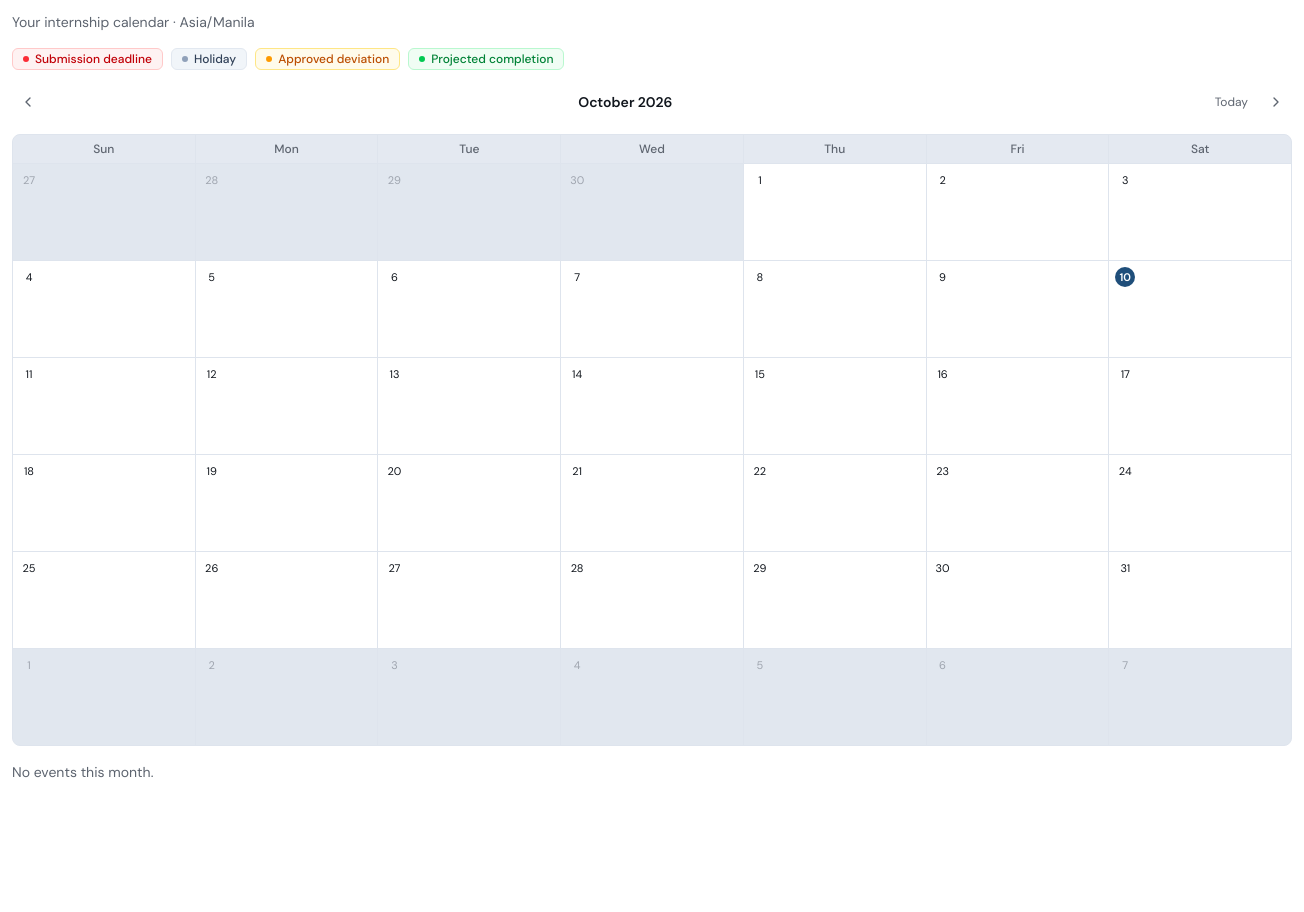
Test: filters the mobile agenda by month, navigates across years, and returns to today
The image size is (1304, 912).
Click the button named "Next month" at (1276, 102), box x1=1260 y1=86 x2=1292 y2=118
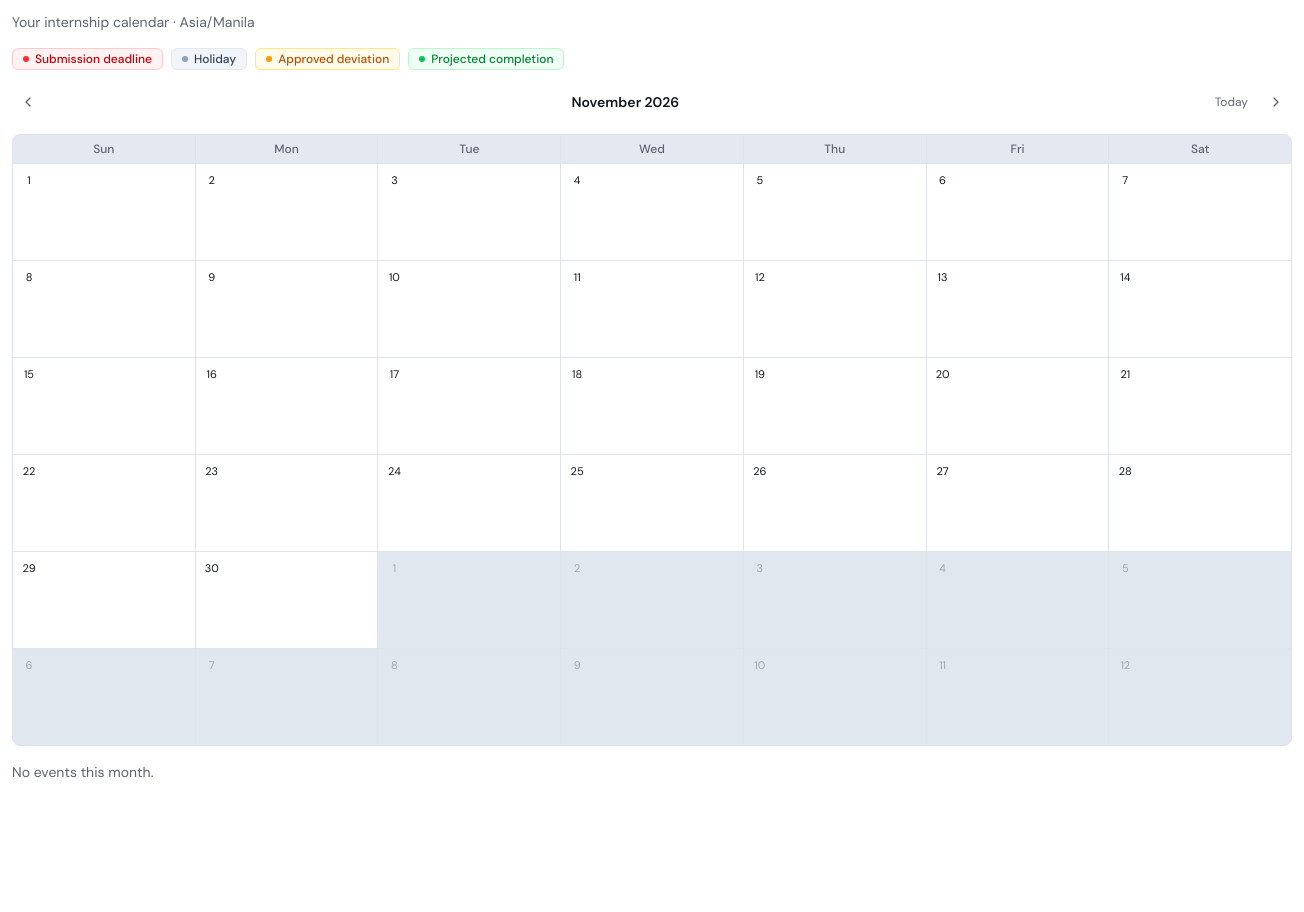
Click the button named "Next month" at (1276, 102), box x1=1260 y1=86 x2=1292 y2=118
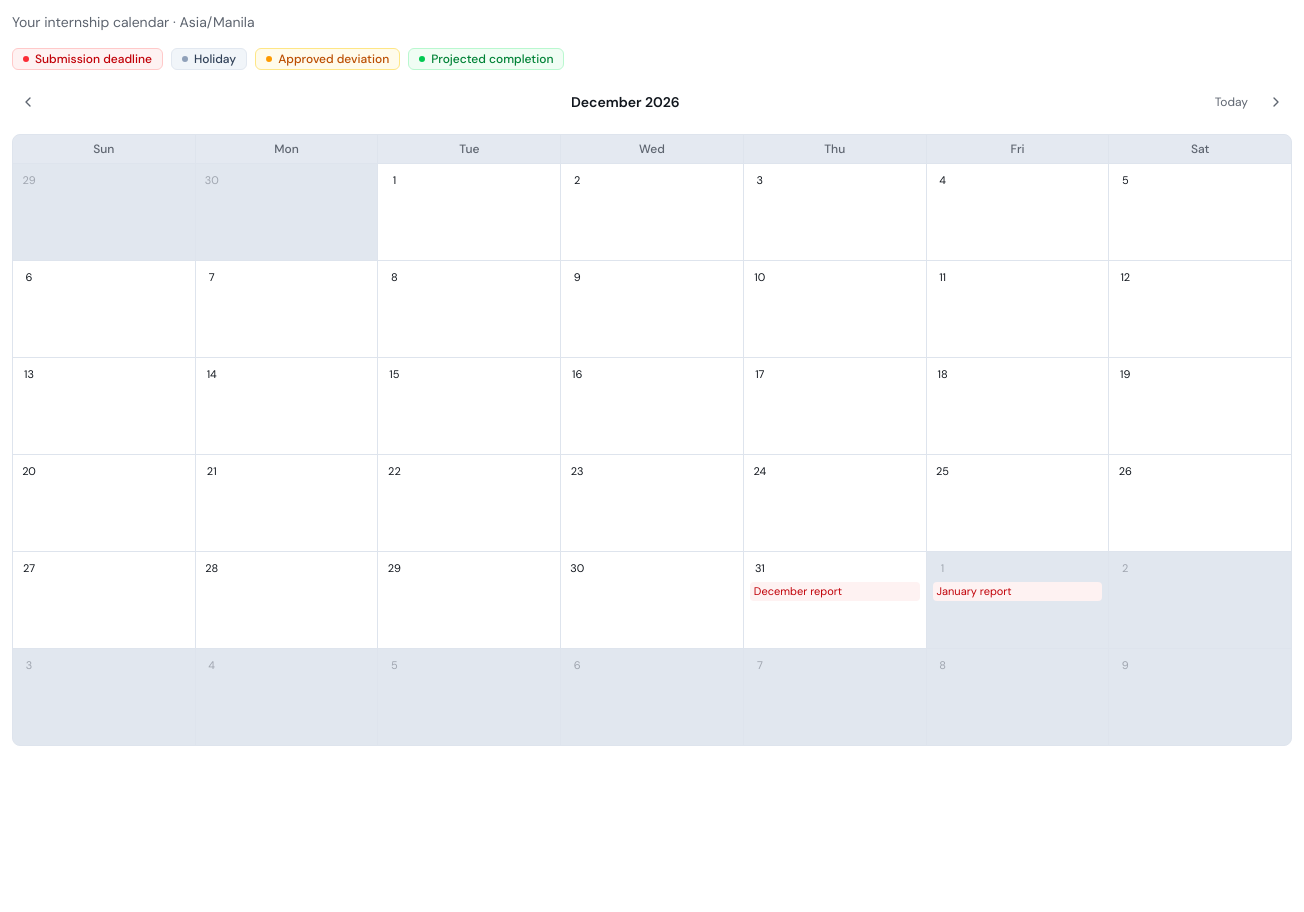
Click the button named "Next month" at (1276, 102), box x1=1260 y1=86 x2=1292 y2=118
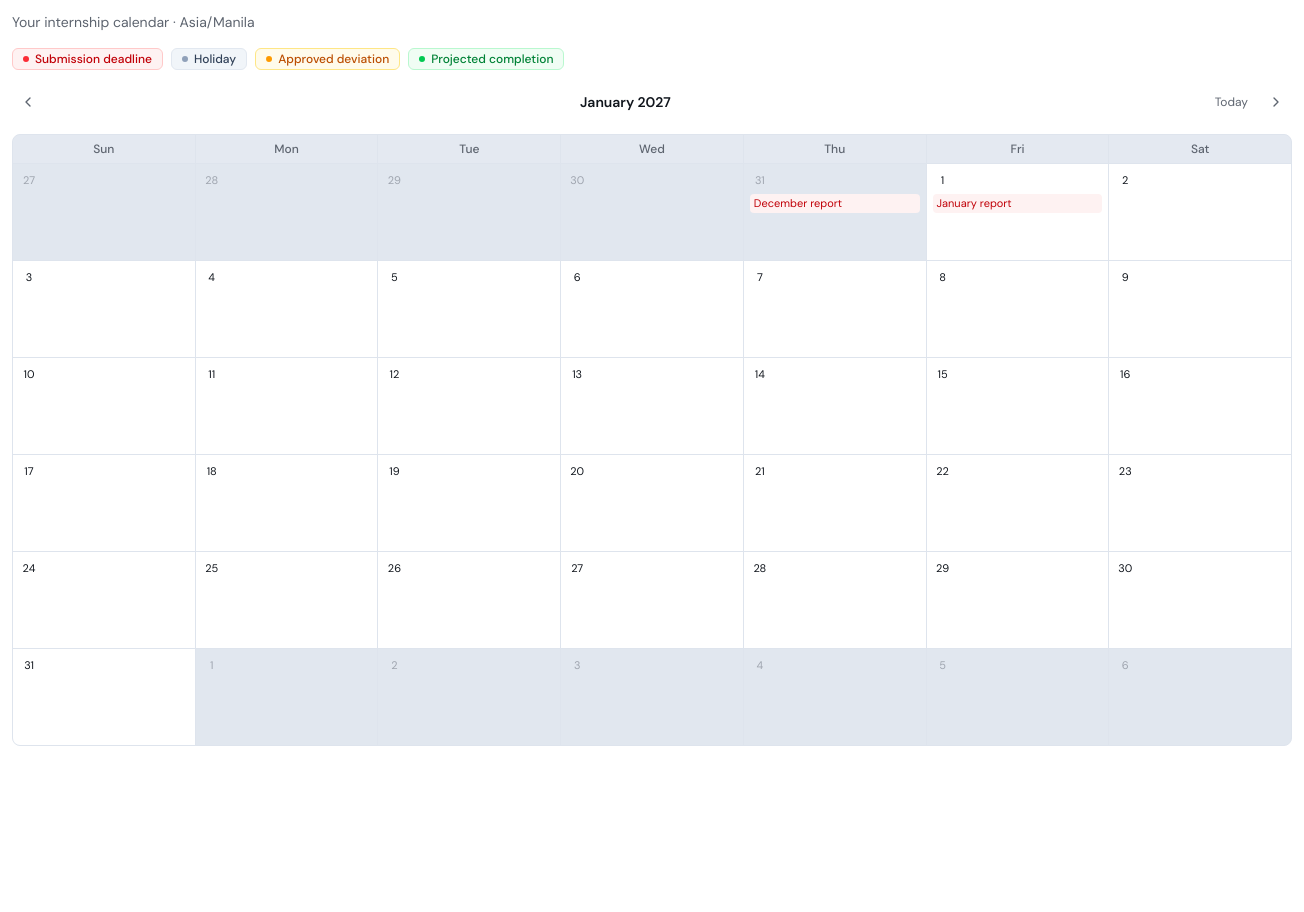
Expected: the heading "January 2027" is shown, x1=580 y1=92 x2=671 y2=112
Click the button named "Previous month" at (28, 102), box x1=12 y1=86 x2=44 y2=118
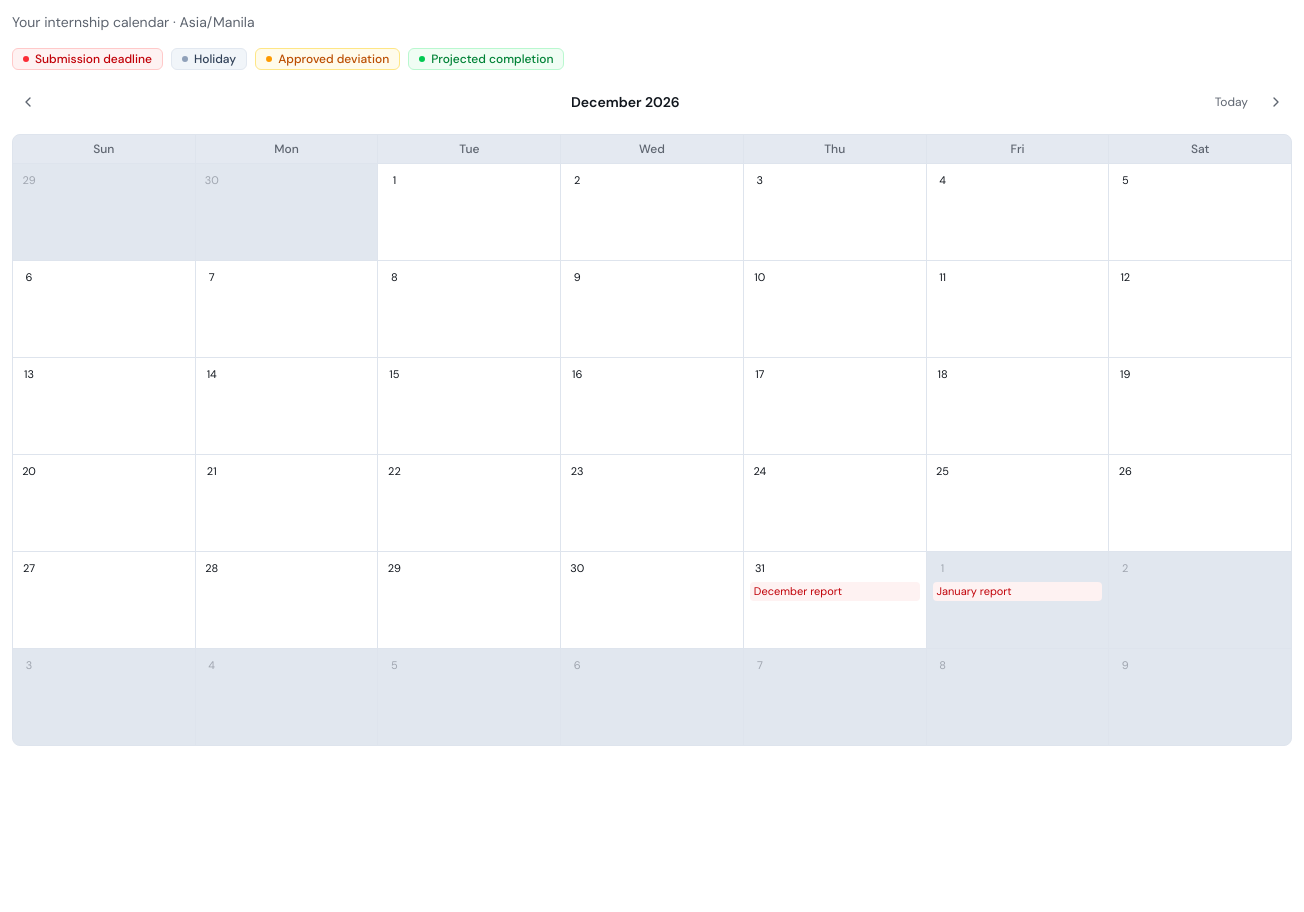
Expected: the heading "December 2026" is shown, x1=571 y1=92 x2=680 y2=112
Click the button "Today" at (1231, 102), box x1=1207 y1=86 x2=1256 y2=118
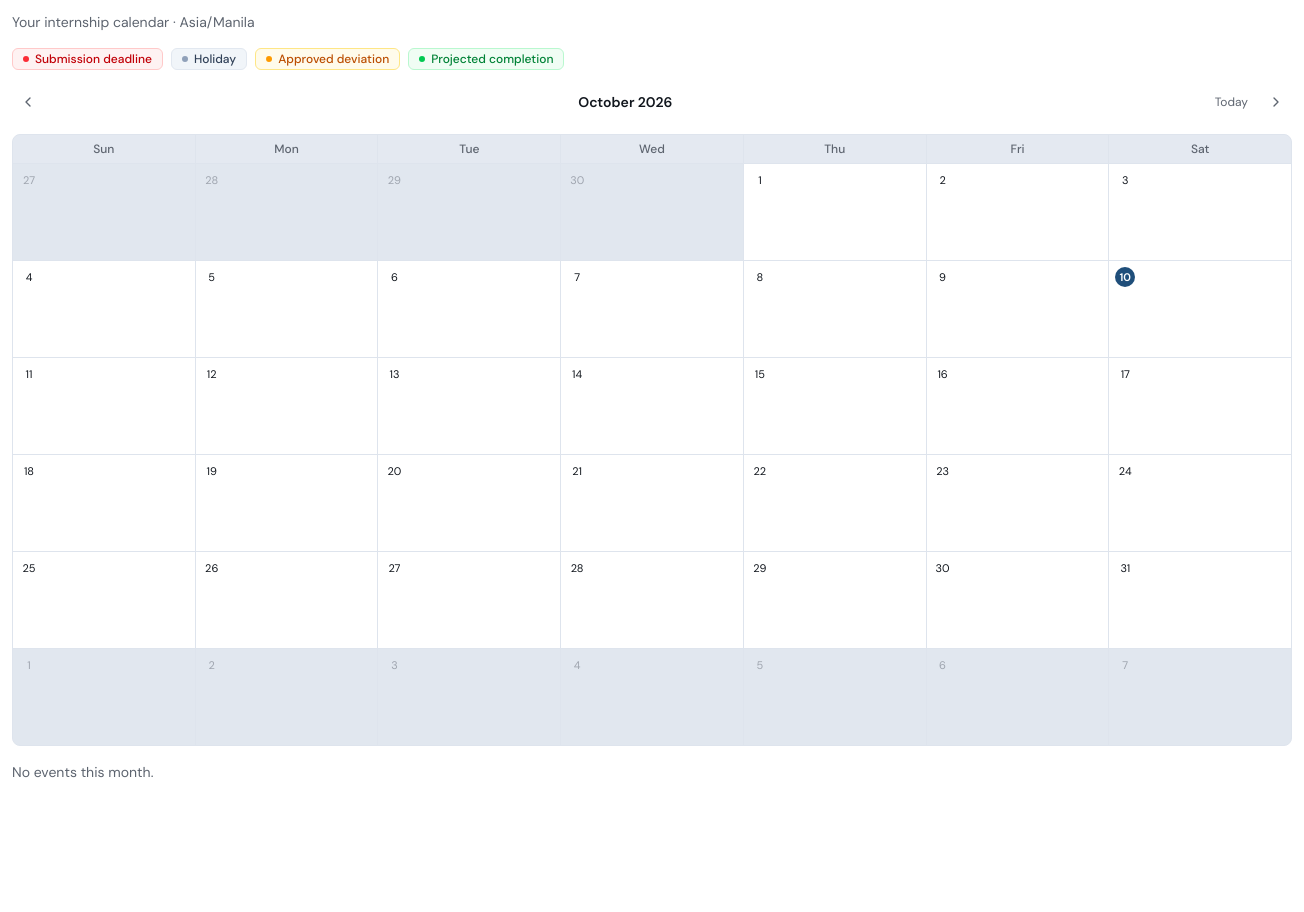
Expected: the heading "October 2026" is shown, x1=578 y1=92 x2=672 y2=112
